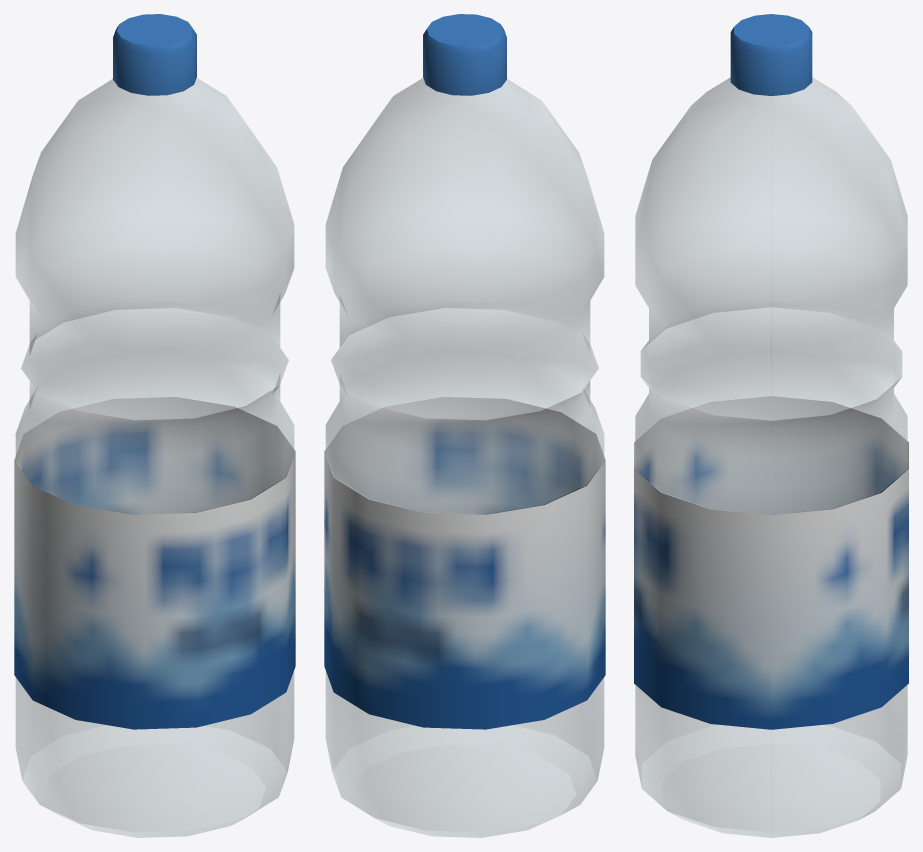
Rendered from SC_Prod_Water_PET_2L.gltf.
3 views of the same model, side by side, from view 1: azimuth 30°, elevation 25°; view 2: azimuth 150°, elevation 25°; view 3: azimuth 270°, elevation 25° (orthographic).
Visible parts, largest first — view 1: SC_Prod_Water_PET_2L; view 2: SC_Prod_Water_PET_2L; view 3: SC_Prod_Water_PET_2L.
Boxes of the visible parts, x1,y1,x2,y2 form: SC_Prod_Water_PET_2L: [14, 14, 295, 837]; SC_Prod_Water_PET_2L: [324, 14, 605, 837]; SC_Prod_Water_PET_2L: [634, 14, 908, 837].
Bounding box in the file's own units: 0.106 × 0.3155 × 0.1033.
Materials: 3 (3 with a texture image).
